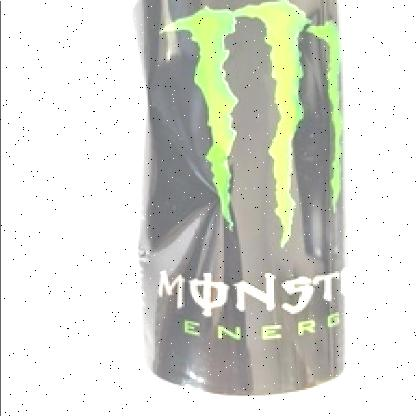Can: (135, 0, 350, 404)
